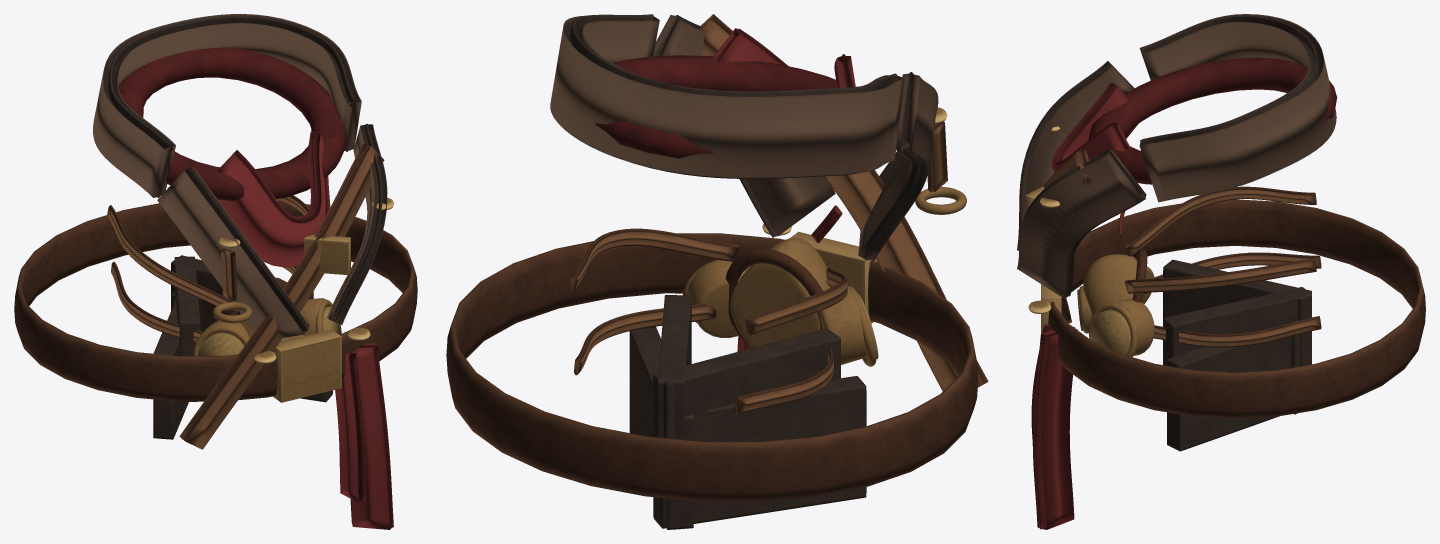
The model's file is ValeProps.fbx.
The picture shows the model from 3 angles, left to right: view 1: azimuth 30°, elevation 25°; view 2: azimuth 150°, elevation 25°; view 3: azimuth 270°, elevation 25°; orthographic projection. The views are drawn at different scales.
Visible parts, largest first — view 1: Vale_ChestProps, Vale_PelvisProps, Vale_HeadProps, Vale_ShoulderR, Vale_ShoulderL; view 2: Vale_ChestProps, Vale_PelvisProps, Vale_HeadProps, Vale_ShoulderR, Vale_ShoulderL; view 3: Vale_ChestProps, Vale_PelvisProps, Vale_HeadProps, Vale_ShoulderL, Vale_ShoulderR.
Part boxes in pixels (x1=…): Vale_ChestProps: x1=93, y1=14, x2=394, y2=449; Vale_PelvisProps: x1=14, y1=200, x2=417, y2=529; Vale_HeadProps: x1=107, y1=195, x2=341, y2=355; Vale_ShoulderR: x1=153, y1=256, x2=200, y2=439; Vale_ShoulderL: x1=171, y1=255, x2=332, y2=402; Vale_ChestProps: x1=550, y1=14, x2=988, y2=391; Vale_PelvisProps: x1=446, y1=231, x2=978, y2=501; Vale_HeadProps: x1=568, y1=205, x2=878, y2=414; Vale_ShoulderR: x1=653, y1=328, x2=866, y2=528; Vale_ShoulderL: x1=629, y1=295, x2=693, y2=529; Vale_ChestProps: x1=1017, y1=14, x2=1337, y2=323; Vale_PelvisProps: x1=1031, y1=199, x2=1425, y2=529; Vale_HeadProps: x1=1077, y1=186, x2=1321, y2=356; Vale_ShoulderL: x1=1163, y1=287, x2=1311, y2=451; Vale_ShoulderR: x1=1163, y1=259, x2=1311, y2=414.
Bounding box in the file's own units: 0.3645 × 0.4144 × 0.3558.
Materials: 1 (1 with a texture image).
